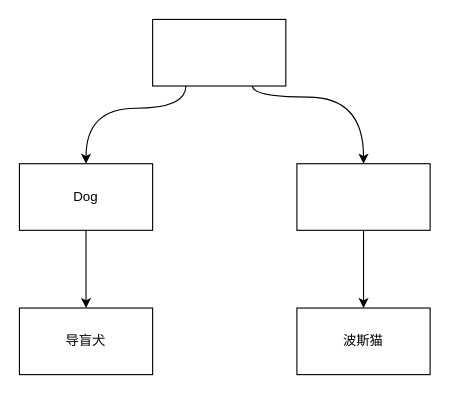
The diagram is 450 pixels wide and 394 high, and some of its shapes have lost their labels. Here are the shapes that lost their labels. From the top down, the centre of each, then its label:
(219,52): Animal
(363,196): Cat
